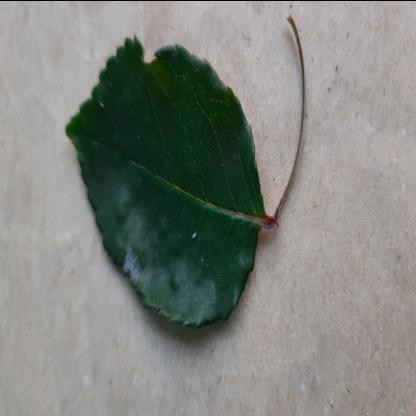powdery-mildew: (63, 37, 266, 333)
